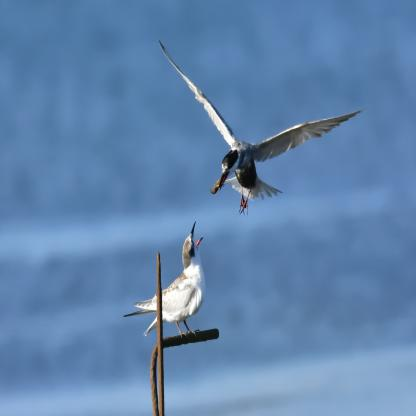bird: (159, 39, 367, 216), (124, 221, 207, 340)
